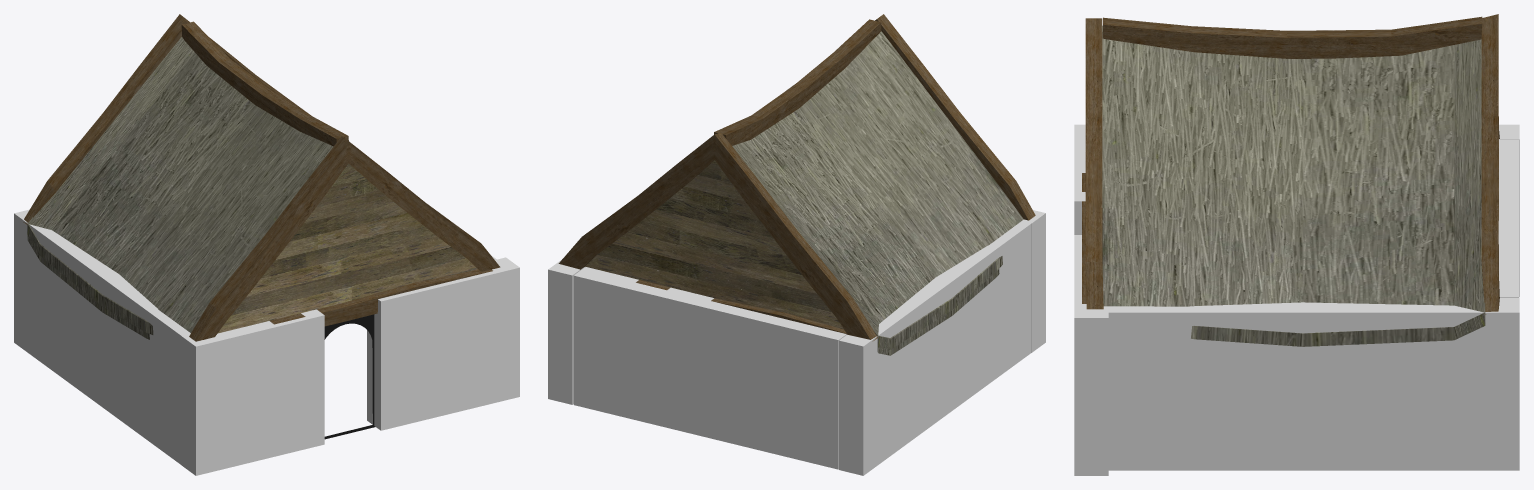
File: player-hut-mk2.glb
3 views of the same model, side by side, from view 1: azimuth 30°, elevation 25°; view 2: azimuth 150°, elevation 25°; view 3: azimuth 270°, elevation 25° (orthographic). The views are drawn at different scales.
Visible parts, largest first — view 1: Cube.479, playerHut-colonly.005, playerHut-colonly.003, playerHut-colonly.001, Cube, Cube.276, Cube.275, Plane.007; view 2: Cube.479, playerHut-colonly.002, playerHut-colonly.005, Cube.272, Cube.276, playerHut-colonly.004, playerHut-colonly.001, Cube.273; view 3: Cube.479, playerHut-colonly.004, Cube.276, playerHut-colonly.003, playerHut-colonly.002, playerHut-colonly.001, Cube.275, playerHut-colonly.005.
Part boxes in pixels (box(x1,y1,x2,y2)): Cube.479: box(23, 14, 500, 341); playerHut-colonly.005: box(14, 209, 212, 465); playerHut-colonly.003: box(367, 257, 519, 430); playerHut-colonly.001: box(182, 309, 324, 475); Cube: box(218, 163, 477, 333); Cube.276: box(181, 21, 348, 146); Cube.275: box(270, 269, 492, 326); Plane.007: box(324, 314, 375, 439); Cube.479: box(558, 14, 1035, 355); playerHut-colonly.002: box(573, 267, 846, 469); playerHut-colonly.005: box(839, 221, 1031, 475); Cube.272: box(585, 160, 843, 329); Cube.276: box(714, 19, 881, 145); playerHut-colonly.004: box(548, 259, 584, 404); playerHut-colonly.001: box(1022, 210, 1045, 352); Cube.273: box(636, 280, 847, 334); Cube.479: box(1085, 14, 1499, 346); playerHut-colonly.004: box(1108, 298, 1519, 470); Cube.276: box(1102, 16, 1482, 58); playerHut-colonly.003: box(1074, 235, 1108, 475); playerHut-colonly.002: box(1498, 139, 1518, 297); playerHut-colonly.001: box(1074, 124, 1085, 234); Cube.275: box(1082, 173, 1086, 303); playerHut-colonly.005: box(1499, 124, 1519, 297).
Bounding box in the file's own units: 6.7 × 5.89 × 6.51.
4 materials, 4 textured.
